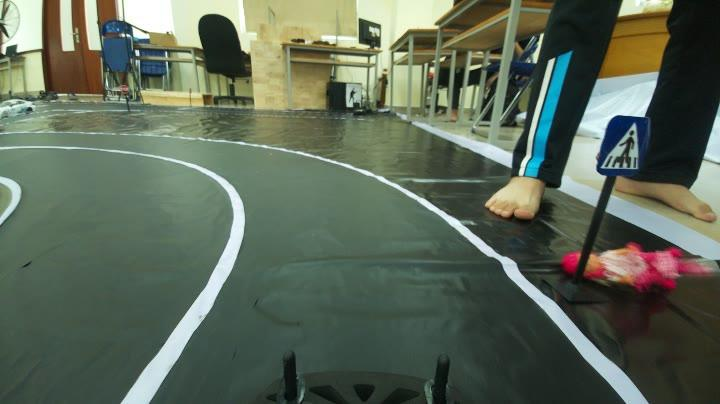crosswalk: (595, 112, 654, 179)
